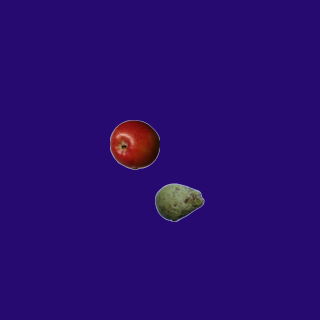Apple Braeburn: (109, 119, 159, 169)
Pear Stone: (154, 177, 204, 227)
